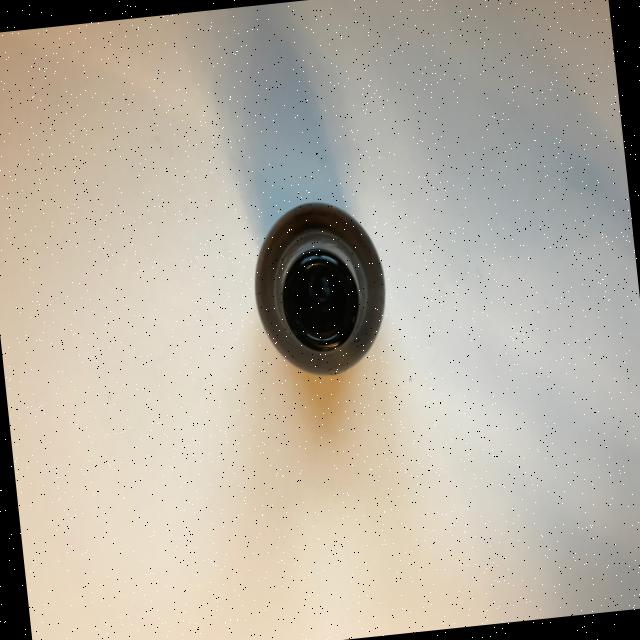glass: (244, 194, 394, 382)
